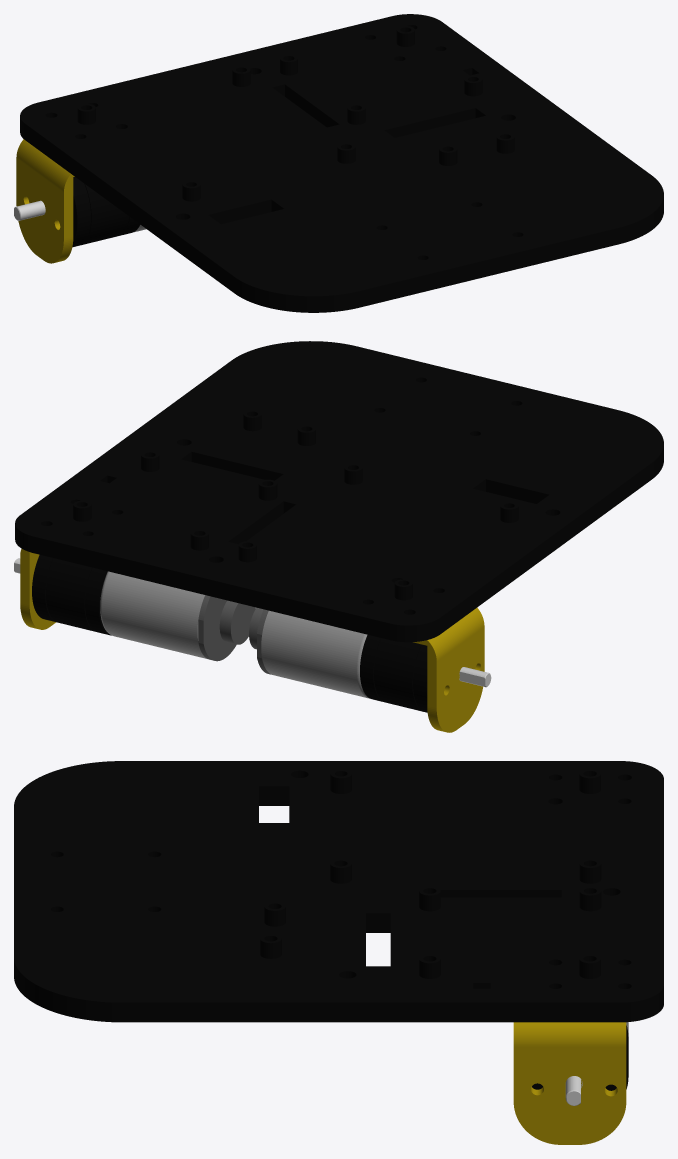
3 views of the same model, one above another, from view 1: azimuth 30°, elevation 25°; view 2: azimuth 150°, elevation 25°; view 3: azimuth 270°, elevation 25° (orthographic). The views are drawn at different scales.
Visible parts, largest first — view 1: base; view 2: base; view 3: base.
Boxes of the visible parts, x1,y1,x2,y2 form: base: (14,14,663,312); base: (14,341,663,732); base: (14,761,663,1144).
Size of the model in its own units: 0.4144 by 0.42 by 0.1136.
